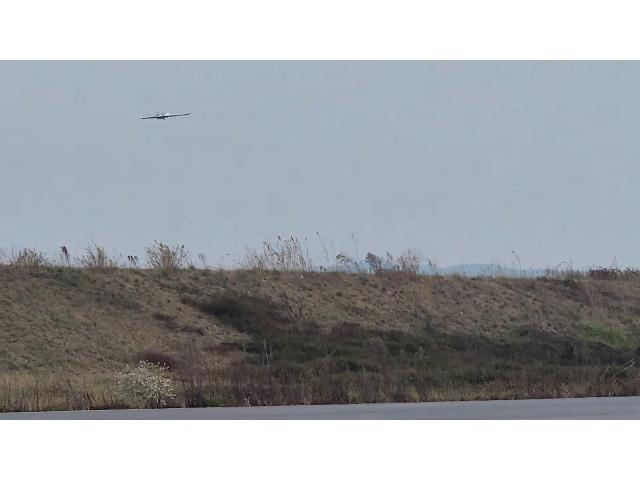Anti-Drone: (140, 110, 192, 122)
